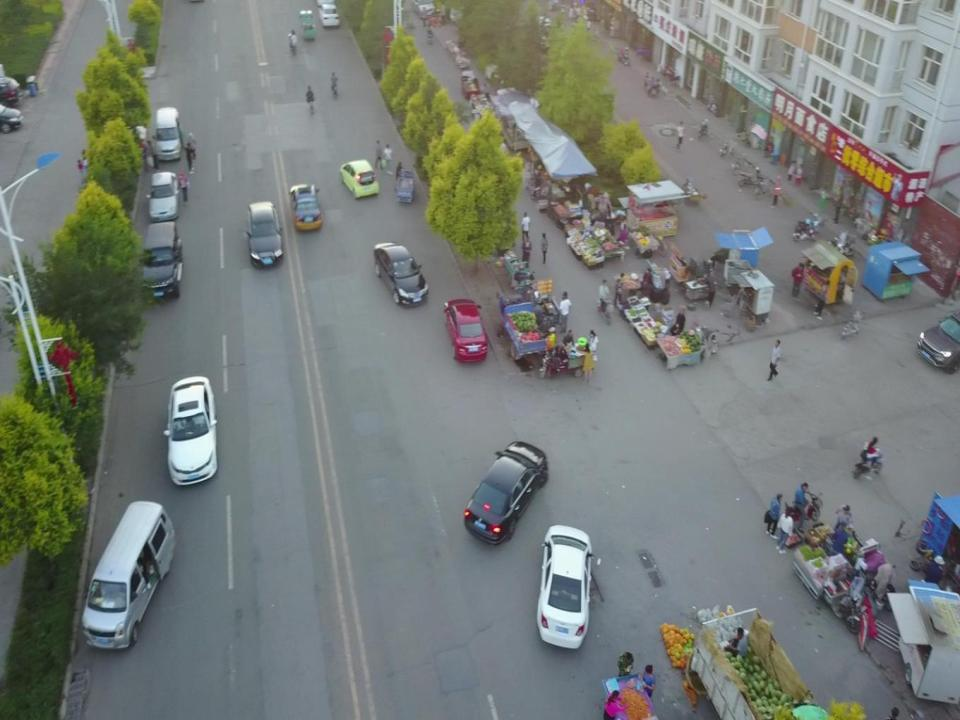car: (464, 440, 547, 544), (536, 524, 592, 648), (167, 376, 218, 484), (372, 241, 428, 306), (444, 298, 488, 362), (917, 314, 960, 374), (247, 201, 283, 269), (146, 171, 178, 221), (289, 182, 322, 230), (340, 160, 378, 199), (318, 2, 340, 27)
truck: (497, 292, 551, 360), (461, 72, 481, 99)
van: (694, 607, 832, 720), (82, 501, 176, 649), (141, 224, 182, 301), (155, 107, 182, 162), (298, 8, 315, 42), (414, 0, 434, 18)
